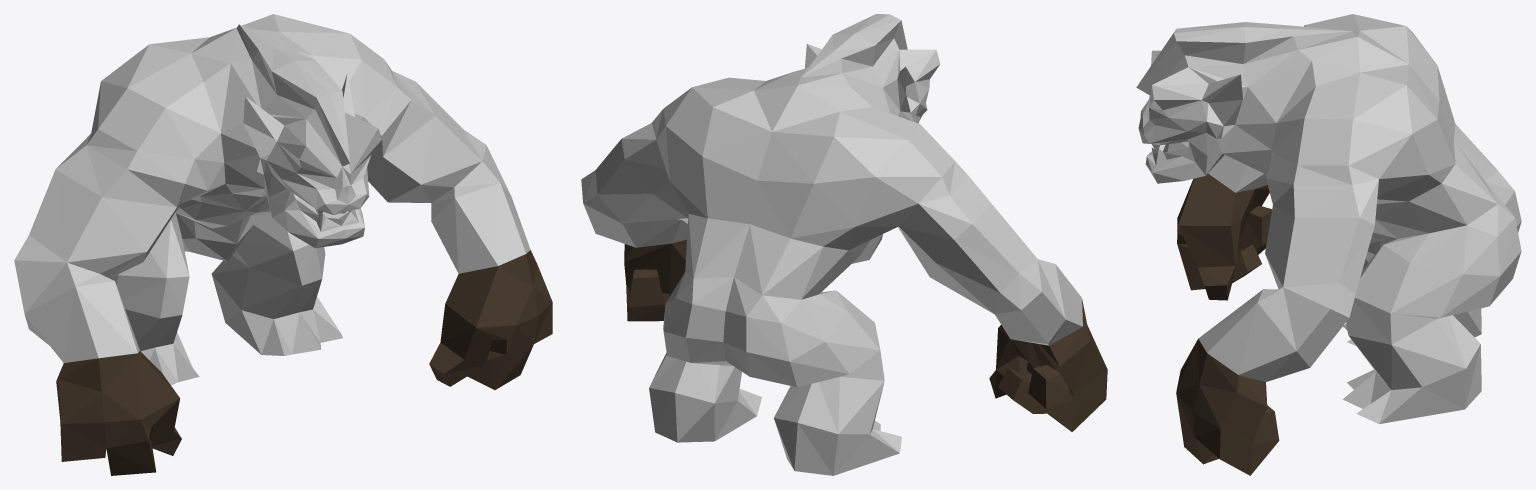
File: TRO_BODY.OBJ
3 renders of one model, left to right at view 1: azimuth 30°, elevation 25°; view 2: azimuth 150°, elevation 25°; view 3: azimuth 270°, elevation 25°, orthographic. The views are drawn at different scales.
Parts seen in each view (by area): view 1: TRO_BODY; view 2: TRO_BODY; view 3: TRO_BODY.
Part boxes in pixels (x1,y1,x2,y2): TRO_BODY: (14,14,552,475); TRO_BODY: (581,14,1107,475); TRO_BODY: (1136,14,1521,475).
Bounding box in the file's own units: 5.22 × 3.58 × 3.64.
